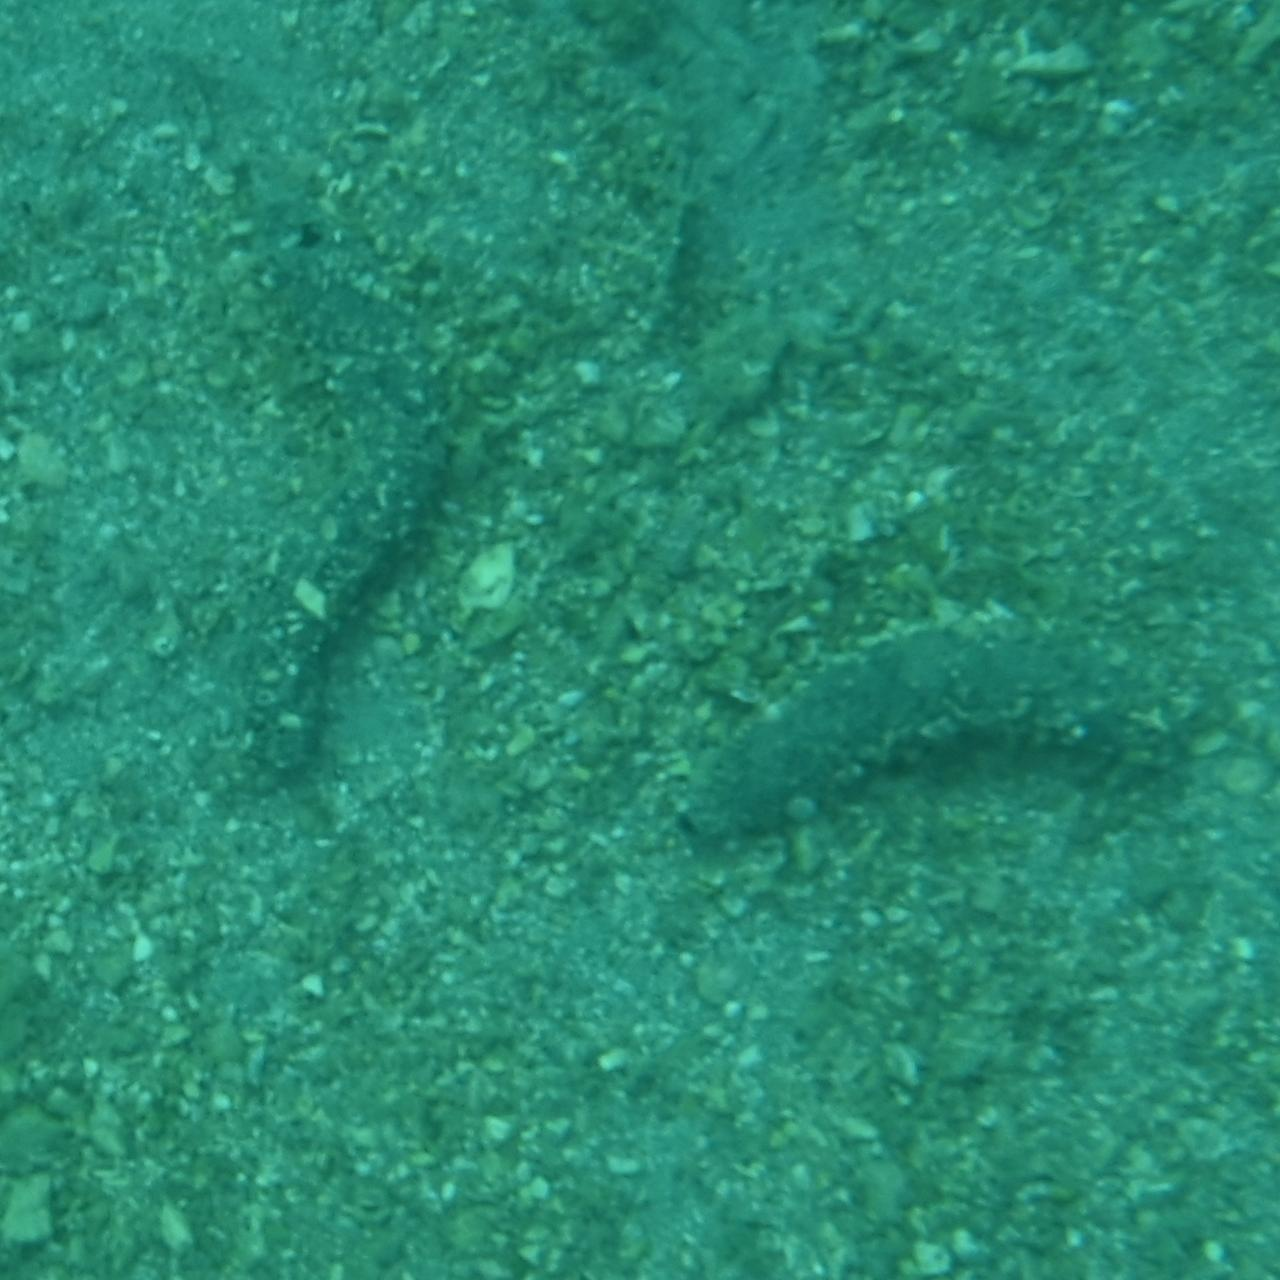Holothuria tubulosa: (675, 610, 1219, 860), (218, 294, 449, 797)
